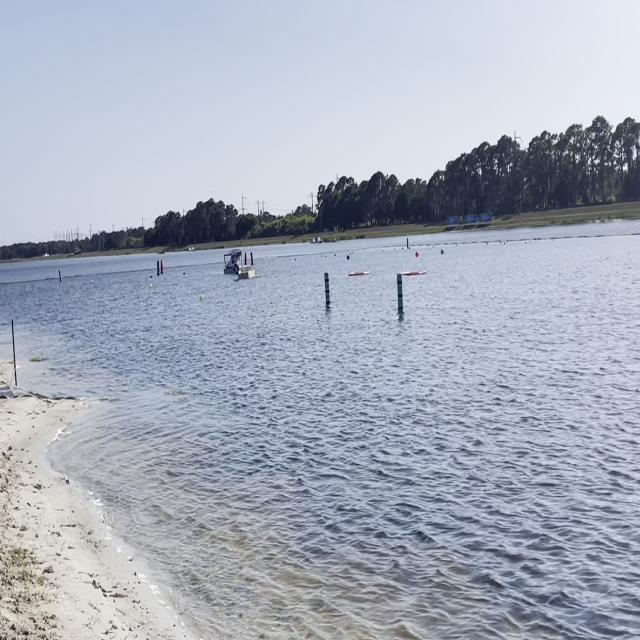buoy: (415, 250, 419, 258), (149, 280, 152, 290), (346, 253, 349, 262), (440, 248, 444, 254), (199, 294, 203, 300)
